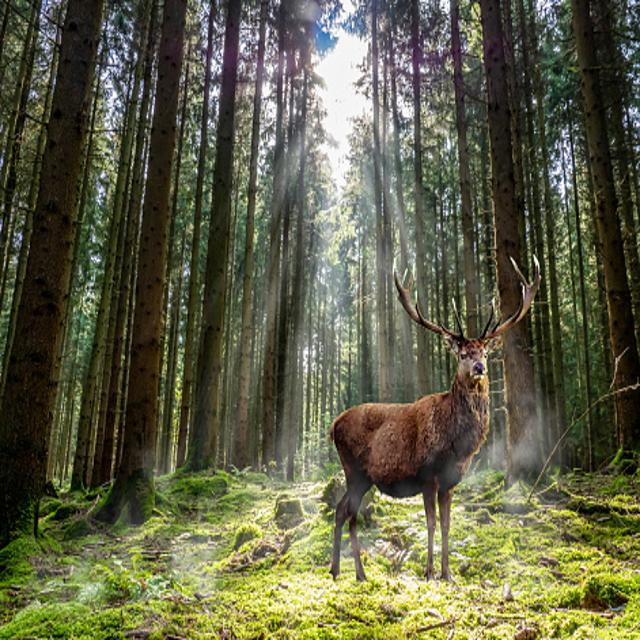deer: (308, 237, 554, 604)
